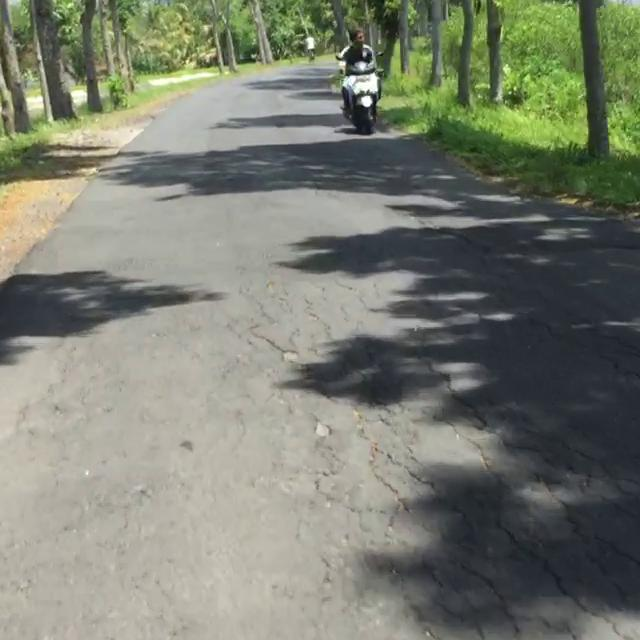retak_kulit_buaya: (358, 358, 640, 640)
